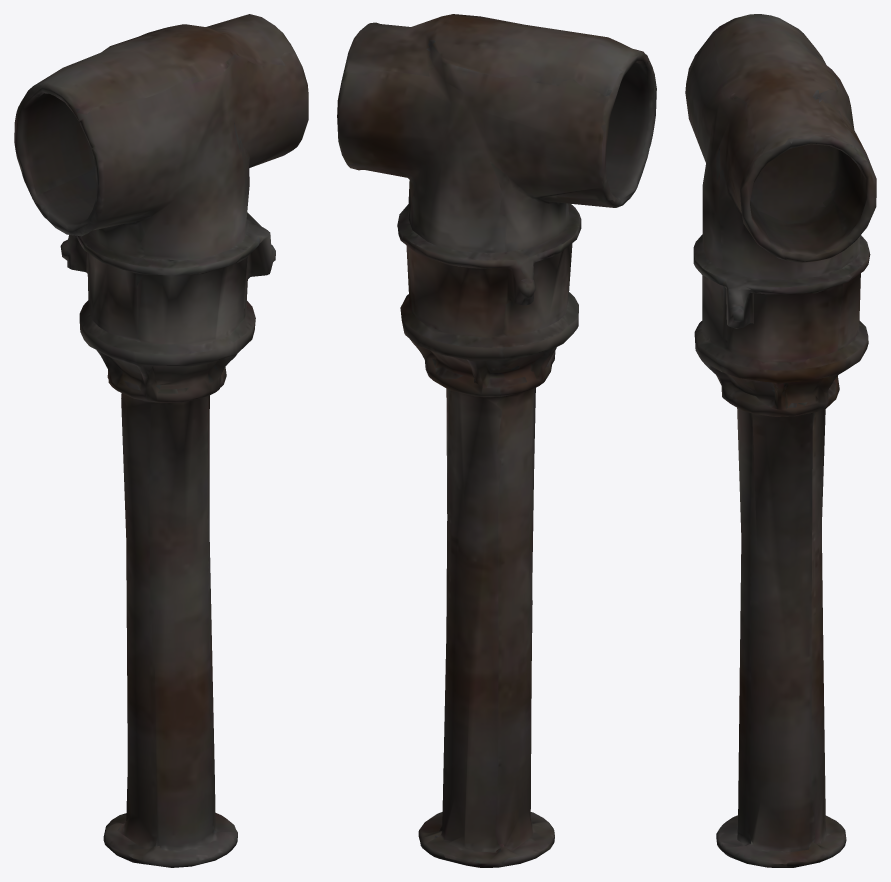
Rendered from simple-iron-drainpipe-v001.glb.
The picture shows the model from 3 angles, left to right: view 1: azimuth 30°, elevation 25°; view 2: azimuth 150°, elevation 25°; view 3: azimuth 270°, elevation 25°; orthographic projection. The views are drawn at different scales.
Visible parts, largest first — view 1: simple-iron-drainpipe; view 2: simple-iron-drainpipe; view 3: simple-iron-drainpipe.
Part boxes in pixels (<box>): simple-iron-drainpipe: <box>14,14,308,867</box>; simple-iron-drainpipe: <box>337,14,656,867</box>; simple-iron-drainpipe: <box>685,14,876,867</box>.
Bounding box in the file's own units: 0.9663 × 2.91 × 0.65.
1 material, 1 textured.
